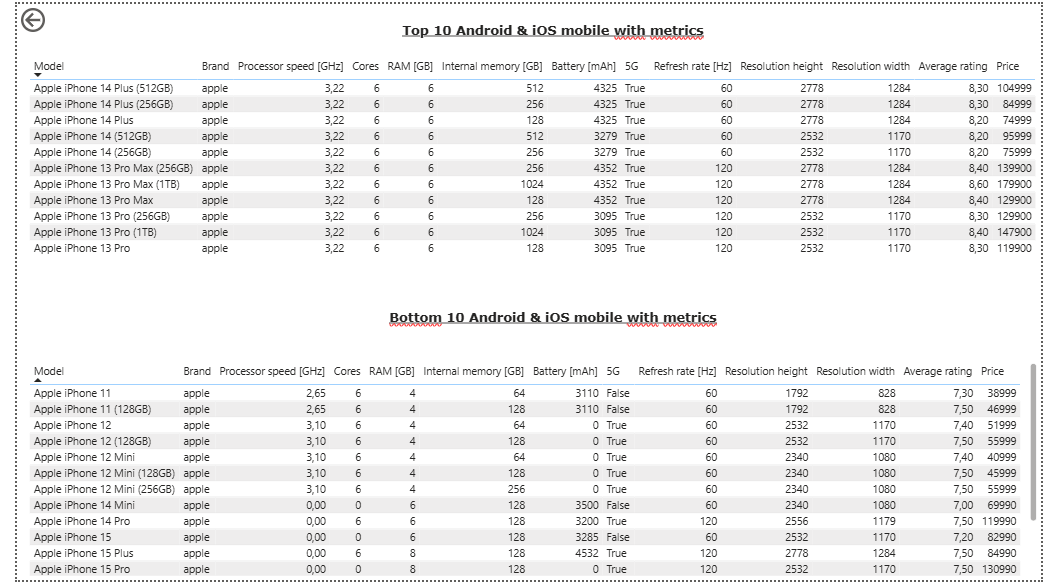

Layout of this report page (visuals, bound fields, positions):
{"tool":"powerbi","page":{"name":"Report-2","canvas":[1280,720],"ordinal":1},"visuals":[{"type":"tableEx","fields":{"Values":["SmartPhone.model","SmartPhone.brand","SmartPhone.processor_speed","SmartPhone.num_cores","SmartPhone.ram_capacity","SmartPhone.internal_memory","SmartPhone.battery_capacity","SmartPhone.is_5g","SmartPhone.refresh_rate","SmartPhone.resolution_height","SmartPhone.resolution_width","SmartPhone.avg_rating"]},"box":[10,62.5,1270,276.2],"z":0},{"type":"actionButton","box":[0,0,100,40],"z":1000},{"type":"textbox","box":[463.8,17.5,412.5,45],"z":2000},{"type":"tableEx","fields":{"Values":["SmartPhone.model","SmartPhone.brand","SmartPhone.processor_speed","SmartPhone.num_cores","SmartPhone.ram_capacity","SmartPhone.internal_memory","SmartPhone.battery_capacity","SmartPhone.is_5g","SmartPhone.refresh_rate","SmartPhone.resolution_height","SmartPhone.resolution_width","SmartPhone.avg_rating"]},"box":[10,443.8,1270,276.2],"z":3000},{"type":"textbox","box":[446.2,376.2,447.5,45],"z":4000}]}

Visuals, with their boxes in screenshot pixels (x1, y1, x2, y2), scaled from the page's 1280x720 canvas onto the 1046x585 screenshot:
tableEx - SmartPhone.model x SmartPhone.brand: {"x1": 8, "y1": 51, "x2": 1045, "y2": 275}
actionButton: {"x1": 0, "y1": 0, "x2": 82, "y2": 32}
textbox: {"x1": 379, "y1": 14, "x2": 716, "y2": 51}
tableEx - SmartPhone.model x SmartPhone.brand: {"x1": 8, "y1": 361, "x2": 1045, "y2": 584}
textbox: {"x1": 365, "y1": 306, "x2": 730, "y2": 342}
